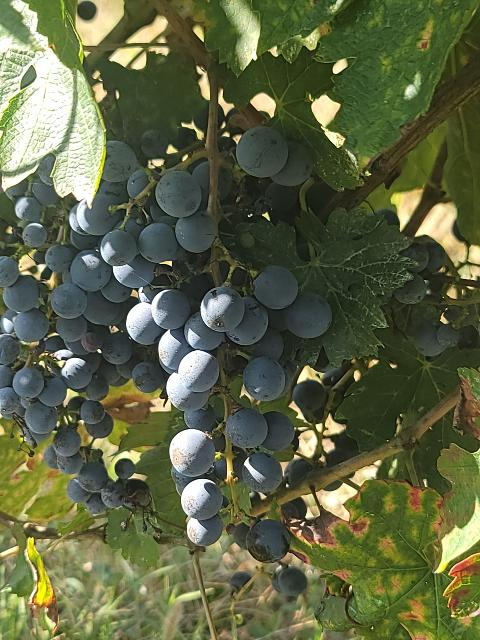grapes: (0, 140, 150, 514), (150, 269, 331, 541), (158, 212, 226, 279), (11, 175, 65, 250), (245, 519, 290, 561)
